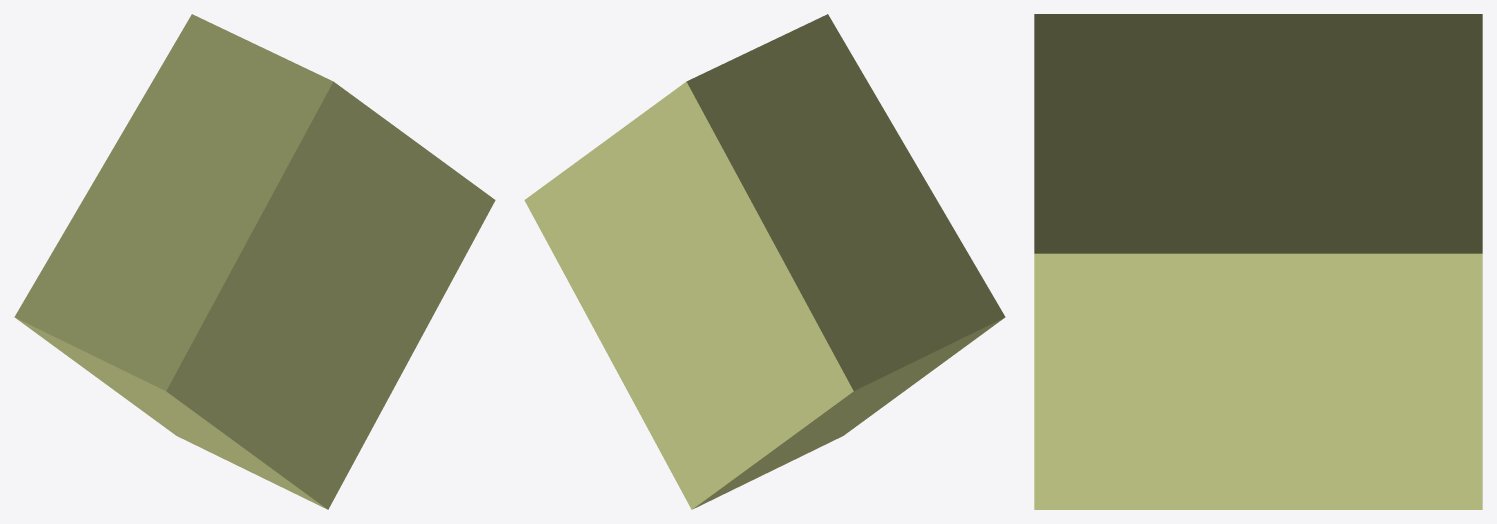
3 views of the same model, side by side, from view 1: azimuth 30°, elevation 25°; view 2: azimuth 150°, elevation 25°; view 3: azimuth 270°, elevation 25° (orthographic). The views are drawn at different scales.
Parts seen in each view (by area): view 1: 0_1_1_3_3_1_0_3_2_1_1; view 2: 0_1_1_3_3_1_0_3_2_1_1; view 3: 0_1_1_3_3_1_0_3_2_1_1.
Boxes of the visible parts, x1,y1,x2,y2 form: 0_1_1_3_3_1_0_3_2_1_1: (14, 14, 495, 509); 0_1_1_3_3_1_0_3_2_1_1: (524, 14, 1005, 509); 0_1_1_3_3_1_0_3_2_1_1: (1034, 14, 1482, 509).
Size of the model in its own units: 10.23 by 11.37 by 9.
